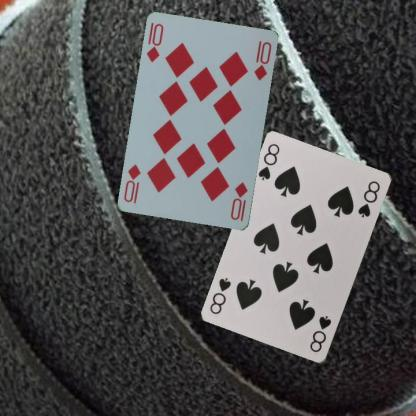10d: (228, 180, 250, 223), (144, 21, 165, 64)
8s: (307, 313, 333, 354), (256, 141, 282, 182)
